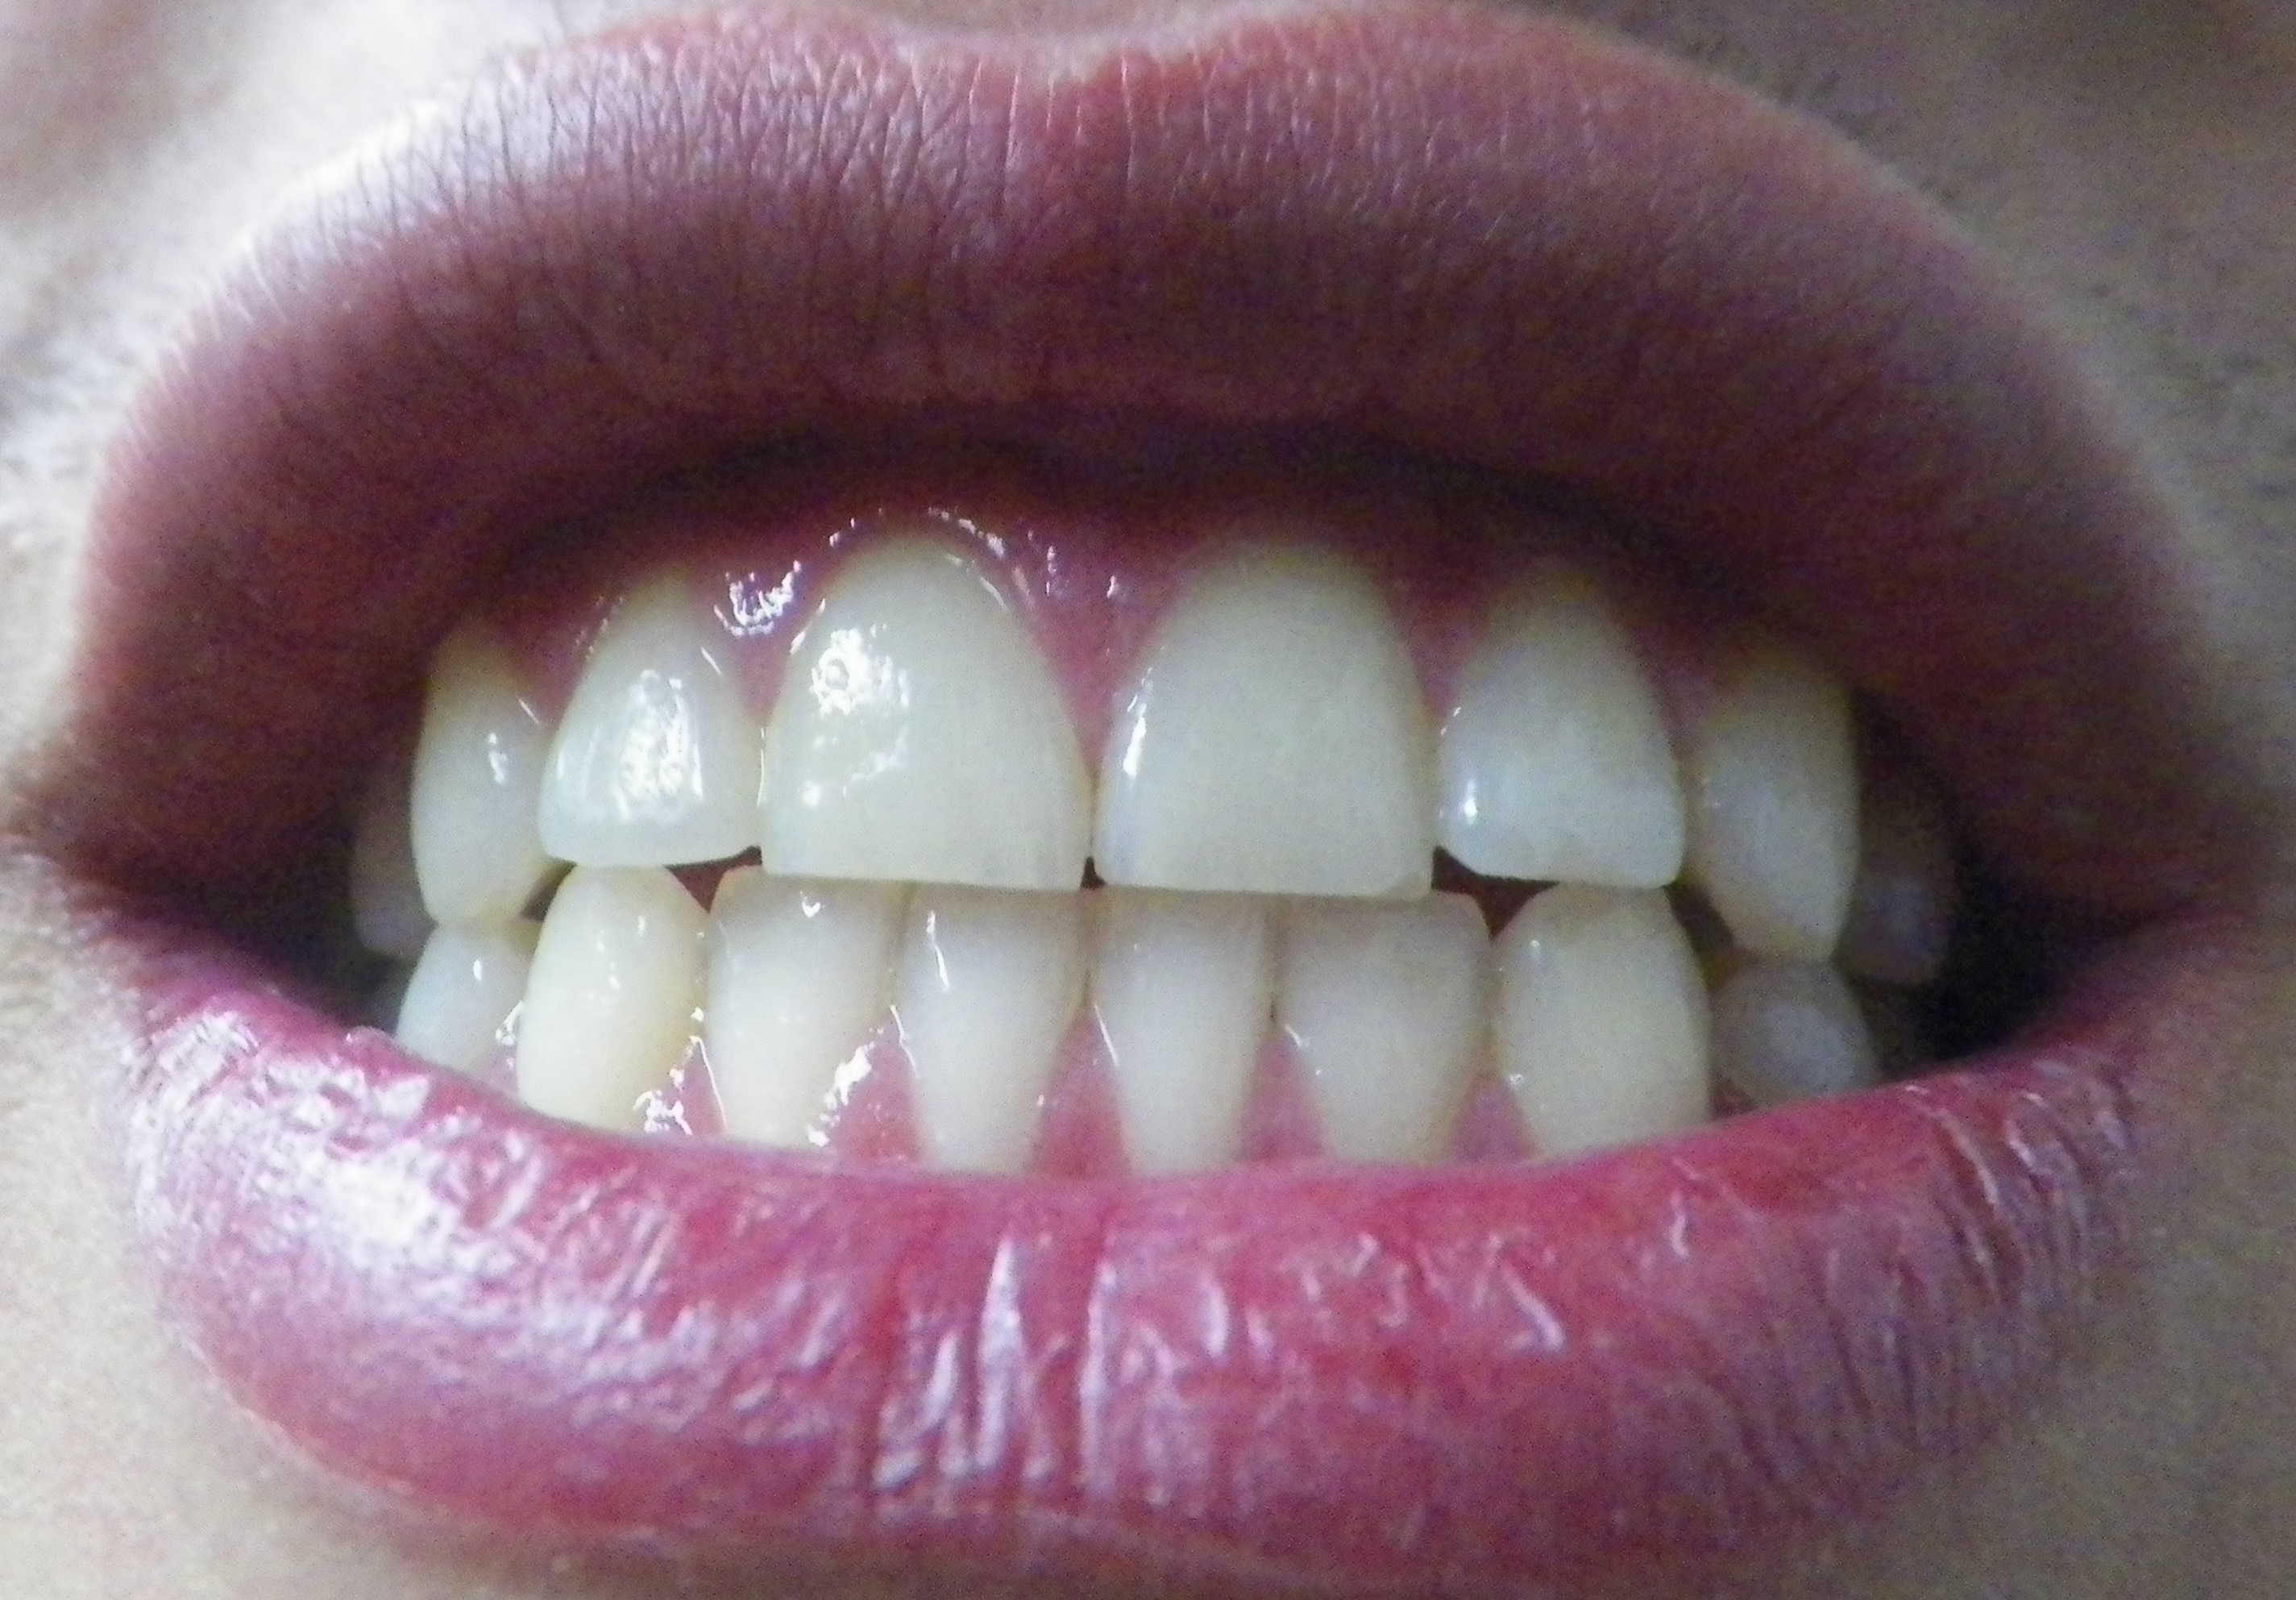boca: (337, 543, 1959, 1169)
